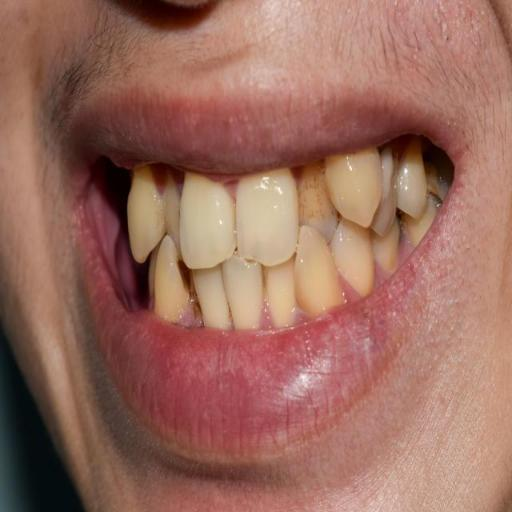spaced: (182, 261, 204, 327)
